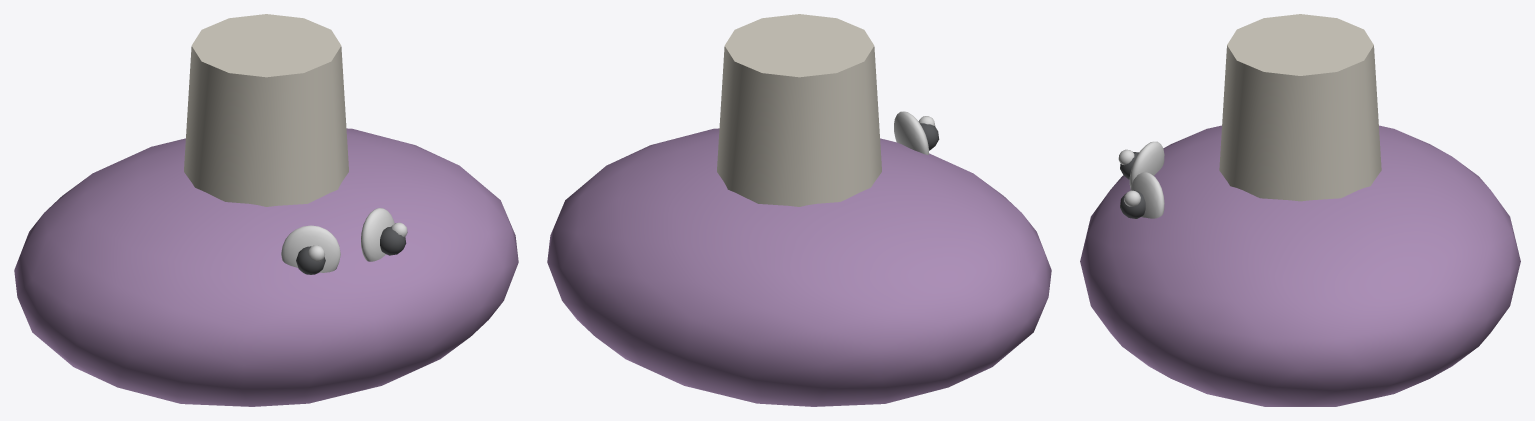
The model's file is tremella-fuciformis.glb.
3 renders of one model, left to right at view 1: azimuth 30°, elevation 25°; view 2: azimuth 150°, elevation 25°; view 3: azimuth 270°, elevation 25°, orthographic.
Visible parts, largest first — view 1: blob, stalk, pface-eye-r, pface-eye-l, pface-pupil-l, pface-pupil-r; view 2: blob, stalk, pface-eye-r; view 3: blob, stalk, pface-eye-l, pface-eye-r, pface-pupil-l.
Boxes of the visible parts, x1=… form: blob: x1=14, y1=128, x2=518, y2=406; stalk: x1=184, y1=14, x2=348, y2=206; pface-eye-r: x1=281, y1=225, x2=340, y2=272; pface-eye-l: x1=361, y1=208, x2=394, y2=261; pface-pupil-l: x1=380, y1=226, x2=406, y2=255; pface-pupil-r: x1=296, y1=246, x2=325, y2=274; blob: x1=547, y1=128, x2=1051, y2=406; stalk: x1=717, y1=14, x2=881, y2=206; pface-eye-r: x1=894, y1=111, x2=928, y2=154; blob: x1=1080, y1=125, x2=1520, y2=406; stalk: x1=1219, y1=14, x2=1381, y2=201; pface-eye-l: x1=1130, y1=172, x2=1164, y2=218; pface-eye-r: x1=1129, y1=141, x2=1164, y2=188; pface-pupil-l: x1=1120, y1=190, x2=1145, y2=218.
Size of the model in its own units: 0.28 by 0.19 by 0.24.
